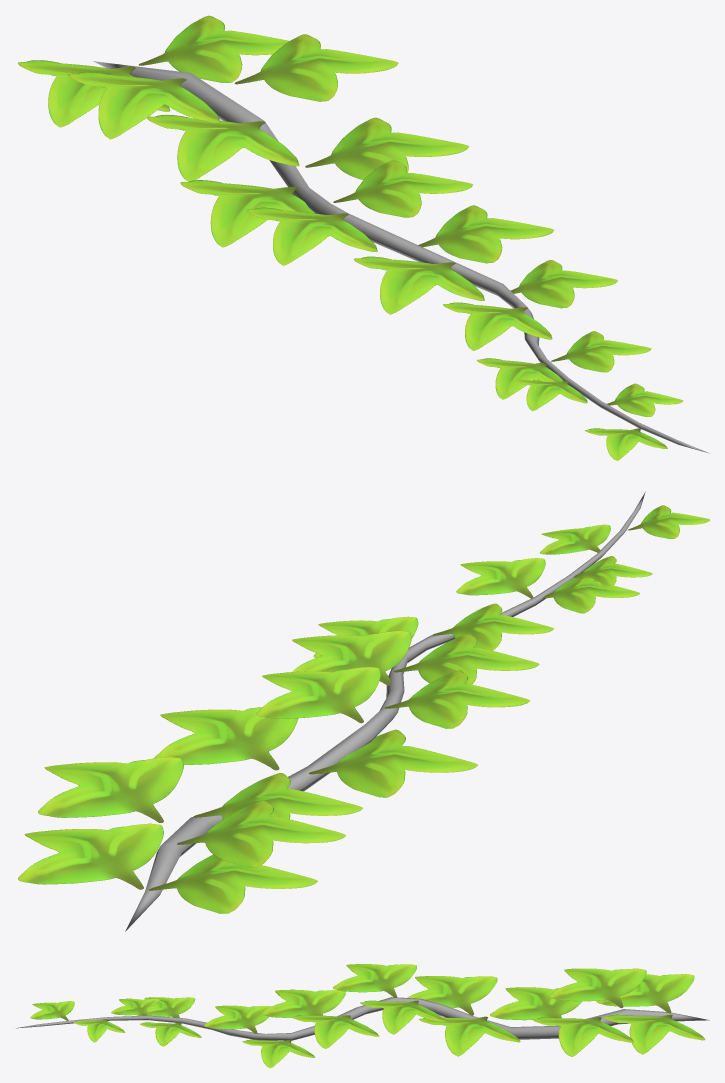
File: ivy.fbx
3 views of the same model, one above another, from view 1: azimuth 30°, elevation 25°; view 2: azimuth 150°, elevation 25°; view 3: azimuth 270°, elevation 25° (orthographic). The views are drawn at different scales.
Visible parts, largest first — view 1: ivy; view 2: ivy; view 3: ivy.
Boxes of the visible parts, left/top/right/bottom form: ivy: left=18, top=15, right=709, bottom=460; ivy: left=18, top=491, right=709, bottom=931; ivy: left=16, top=964, right=709, bottom=1068.
Size of the model in its own units: 41.78 by 8.46 by 133.
